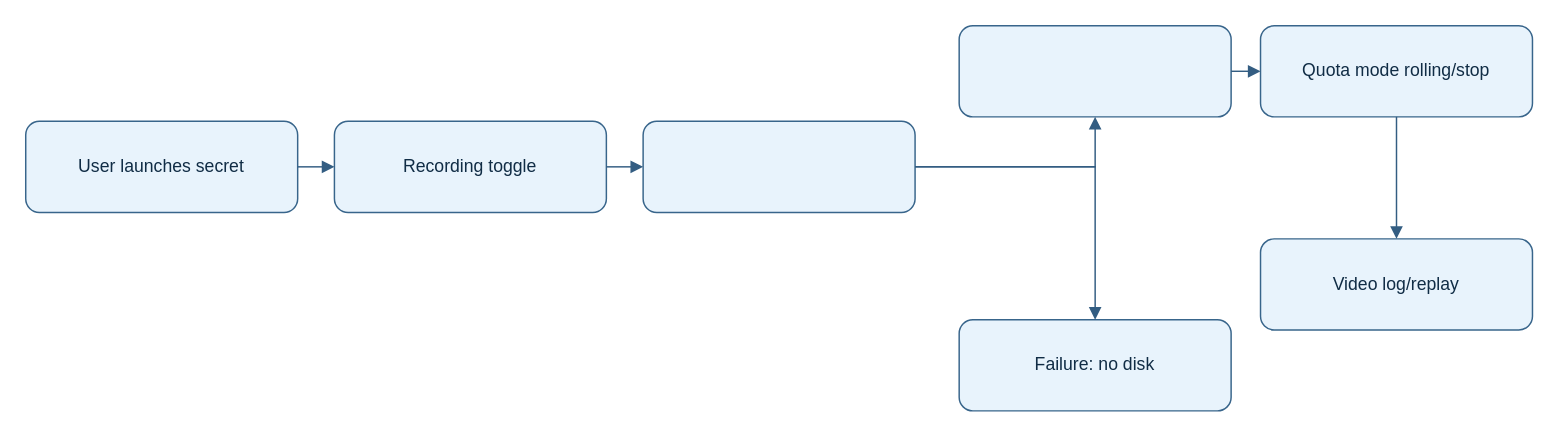
Image size: 1558x437. Some labels were removed from this diagram. The shapes that lost their labels are listed below. From the top down, each one's centre as x and y in pixels, then its label:
point 1094,70: Session capture
point 778,166: Video disk mounted?
